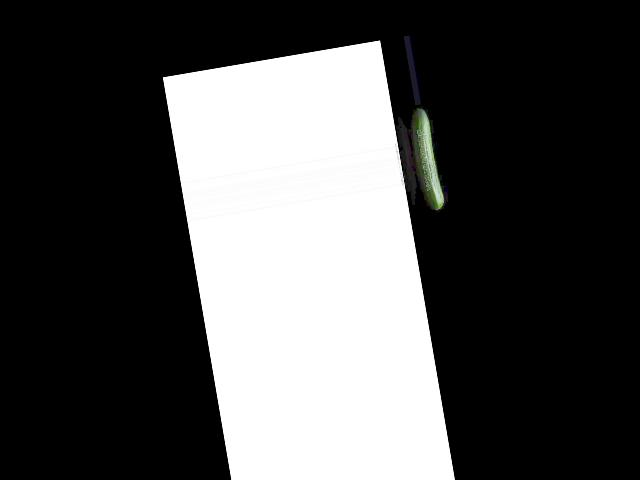cucumber: (412, 108, 444, 212)
